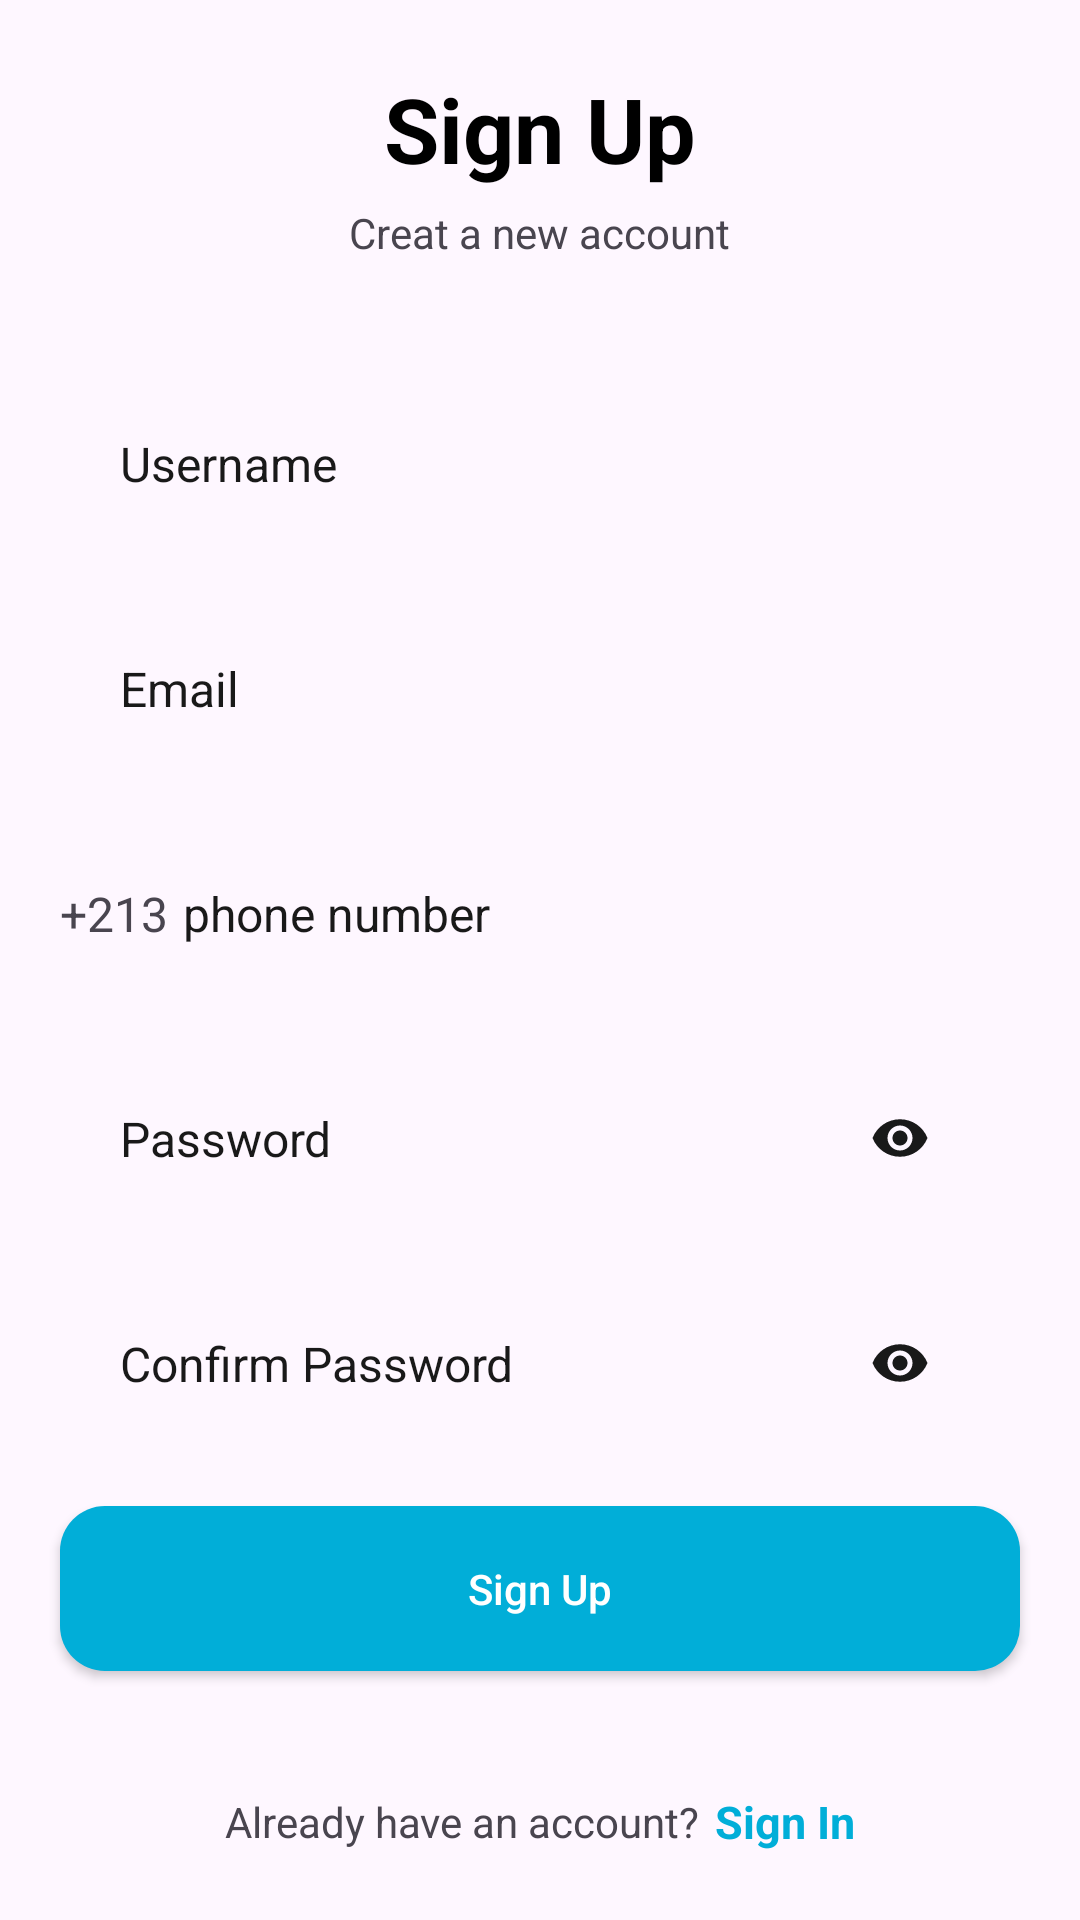

Icons on this 1080x1920 Android screen, each with the point to tap as [x,y]:
visibility: [900,1138], [900,1363]
